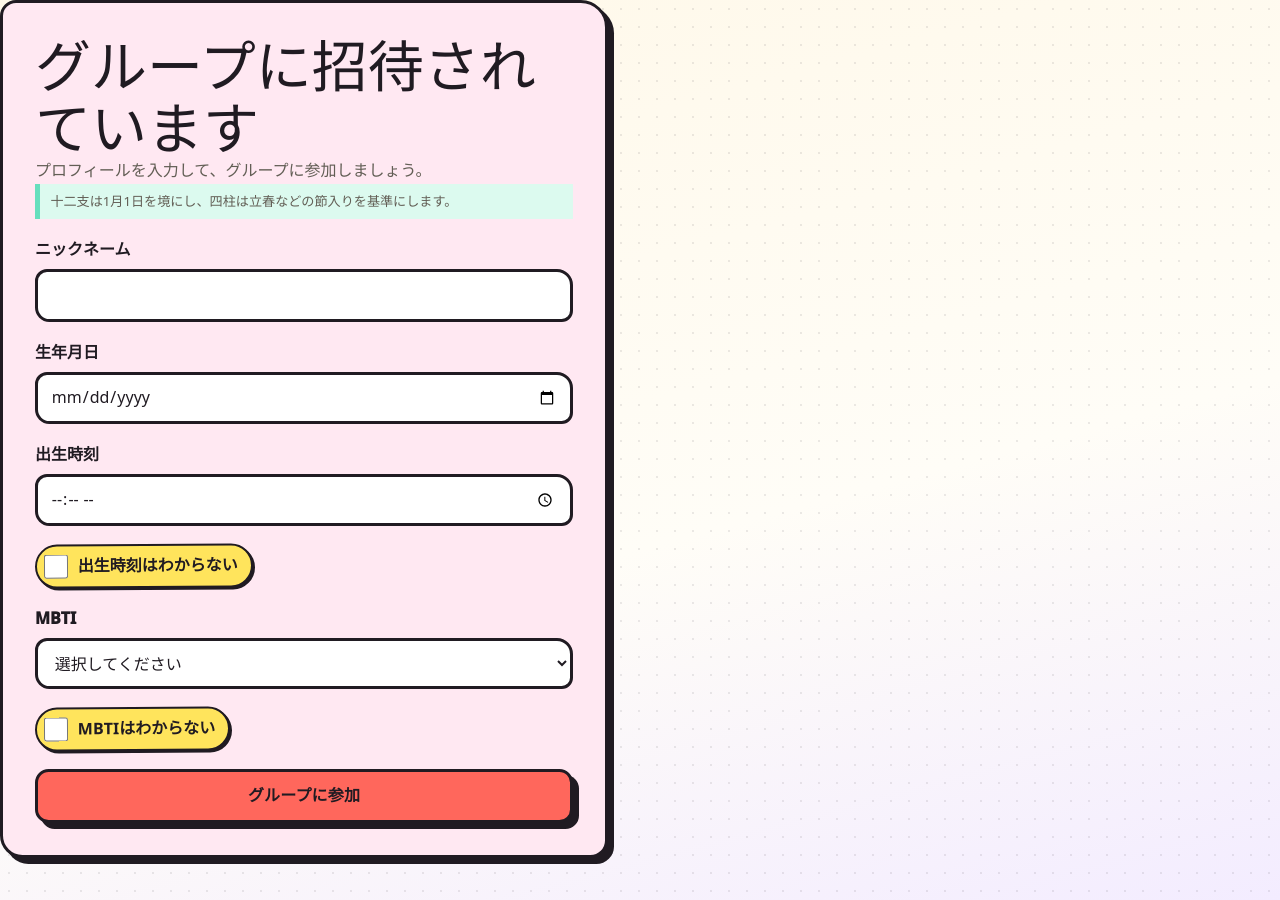
it: JoinGroupForm › never persists inputs or exposes causes after a provider failure
Type "  もふ  " into the field labelled "ニックネーム" at (304, 295), box [35,269,573,322]
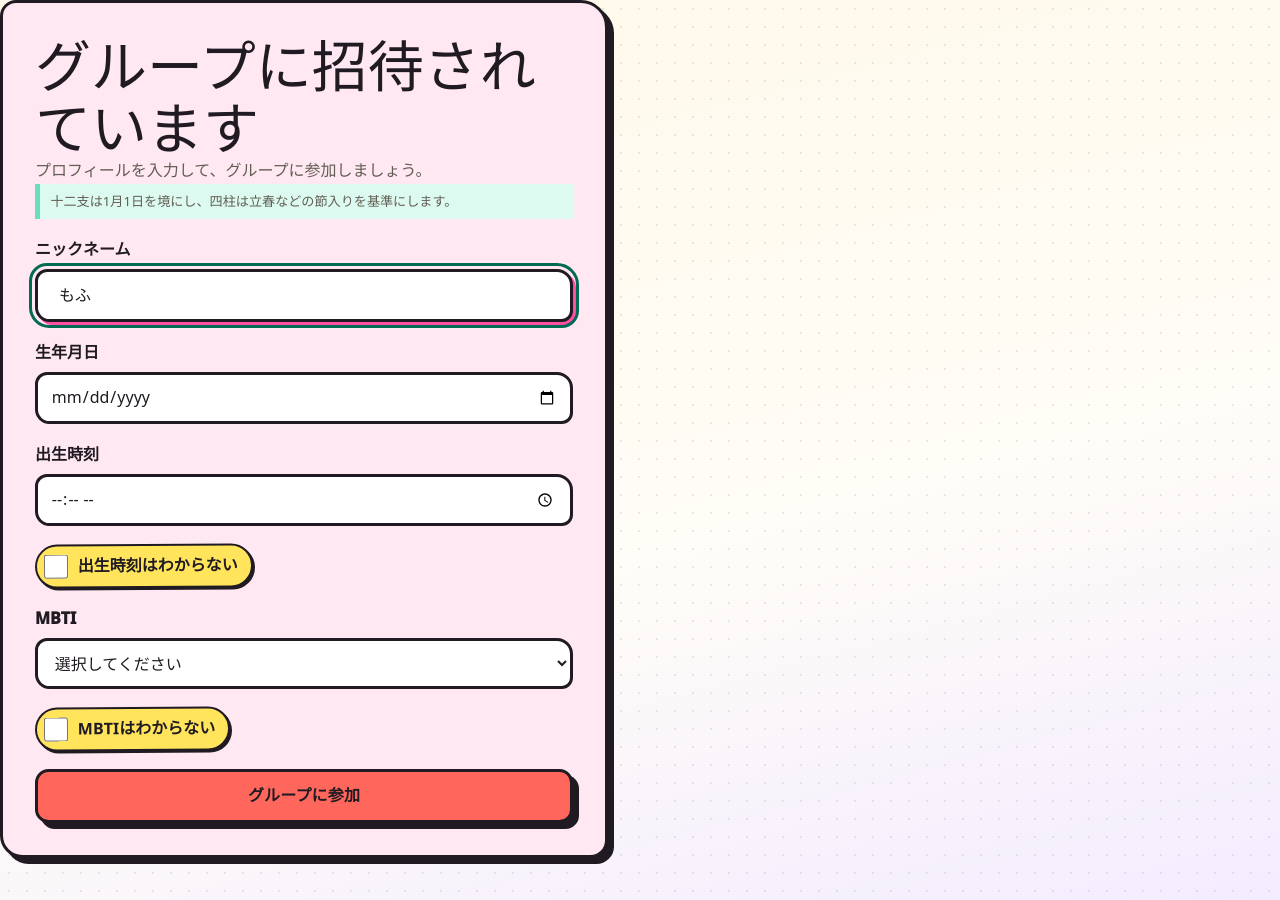
Type "2000-02-29" into the date field labelled "生年月日" at (304, 398), box [35,372,573,424]
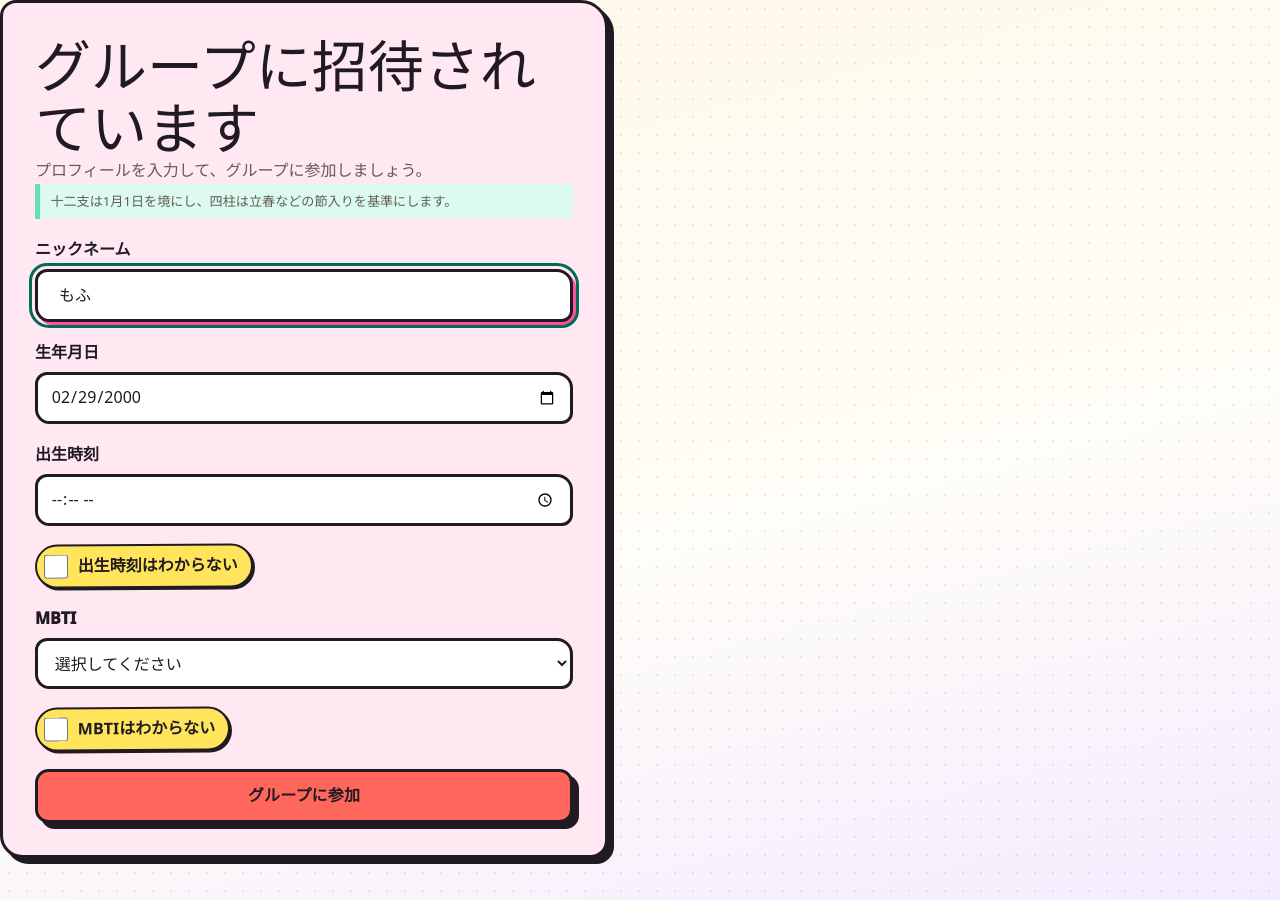
Type "09:05" into the time field labelled "出生時刻" at (304, 500), box [35,474,573,526]
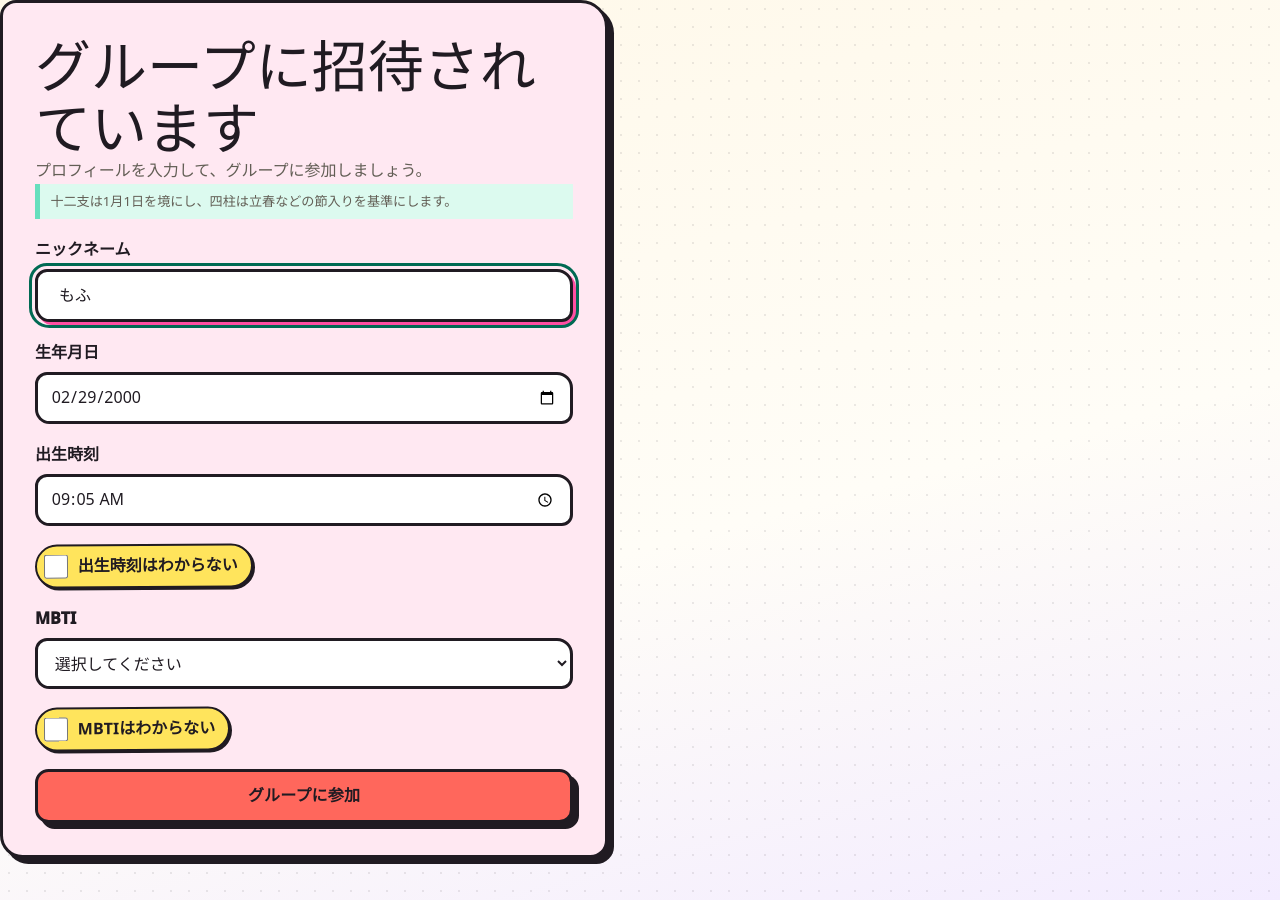
Click the checkbox labelled "出生時刻はわからない" at (56, 567), box [44,555,68,579]
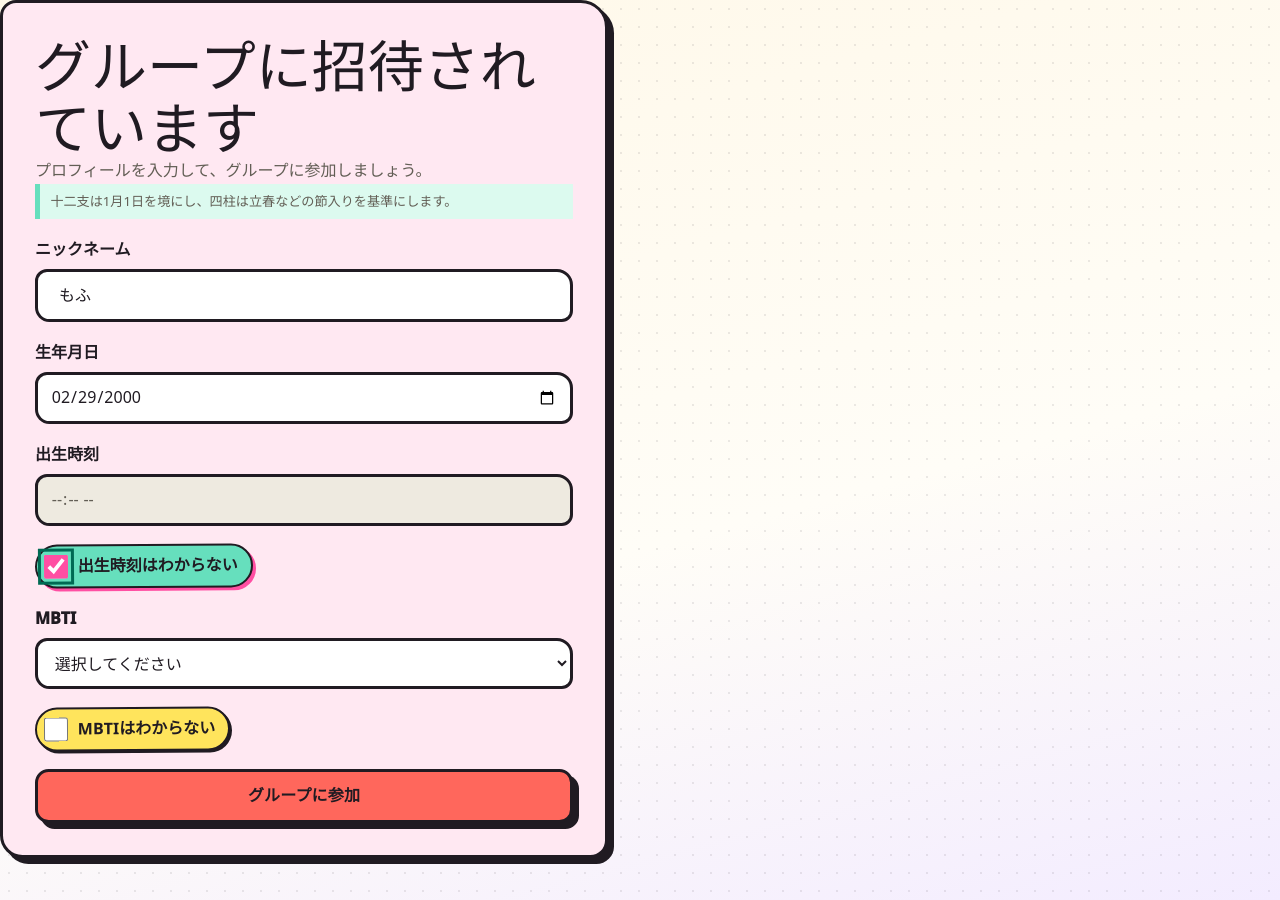
Click the checkbox labelled "MBTIはわからない" at (56, 730), box [44,717,68,742]
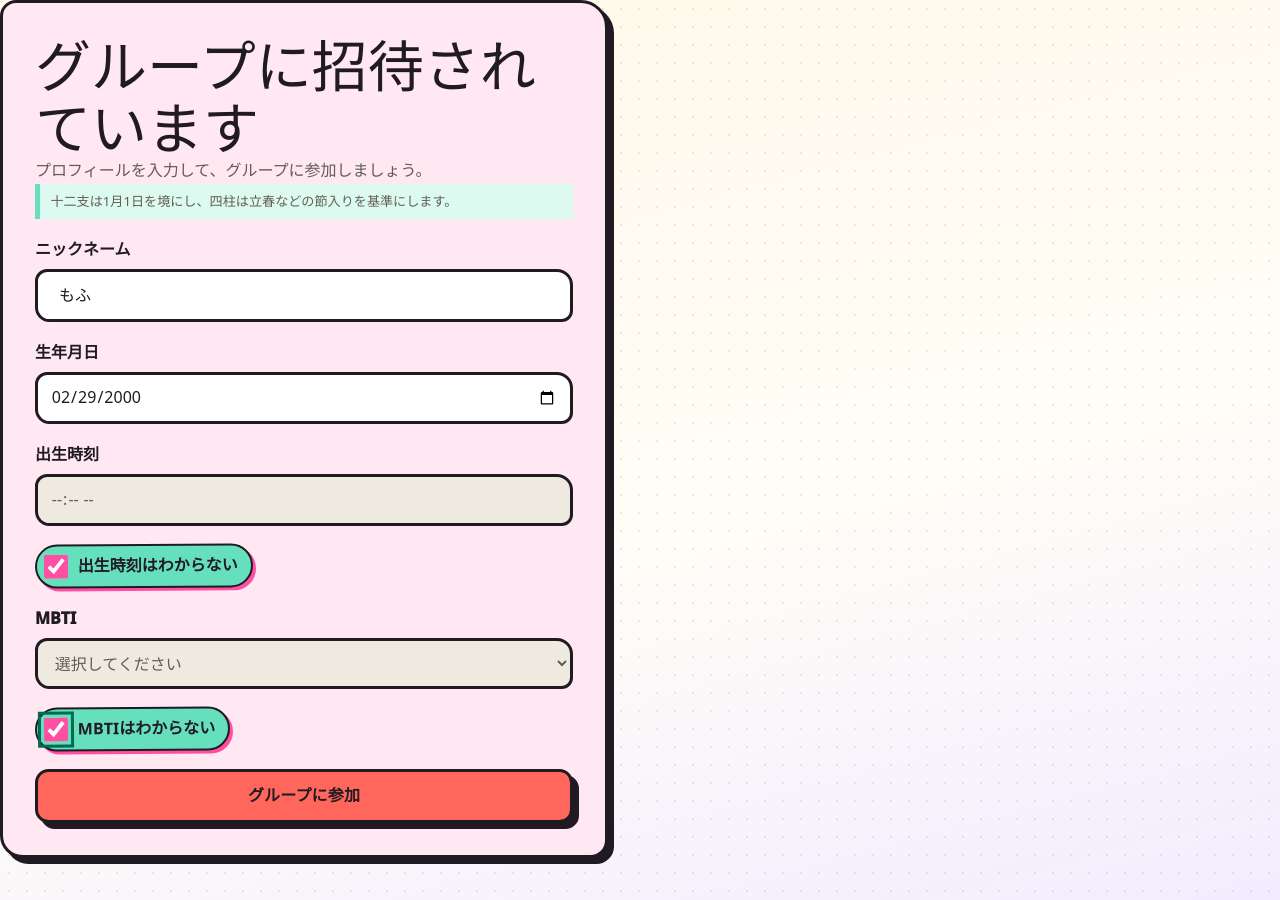
Click the button "グループに参加" at (304, 796), box [35,769,573,823]
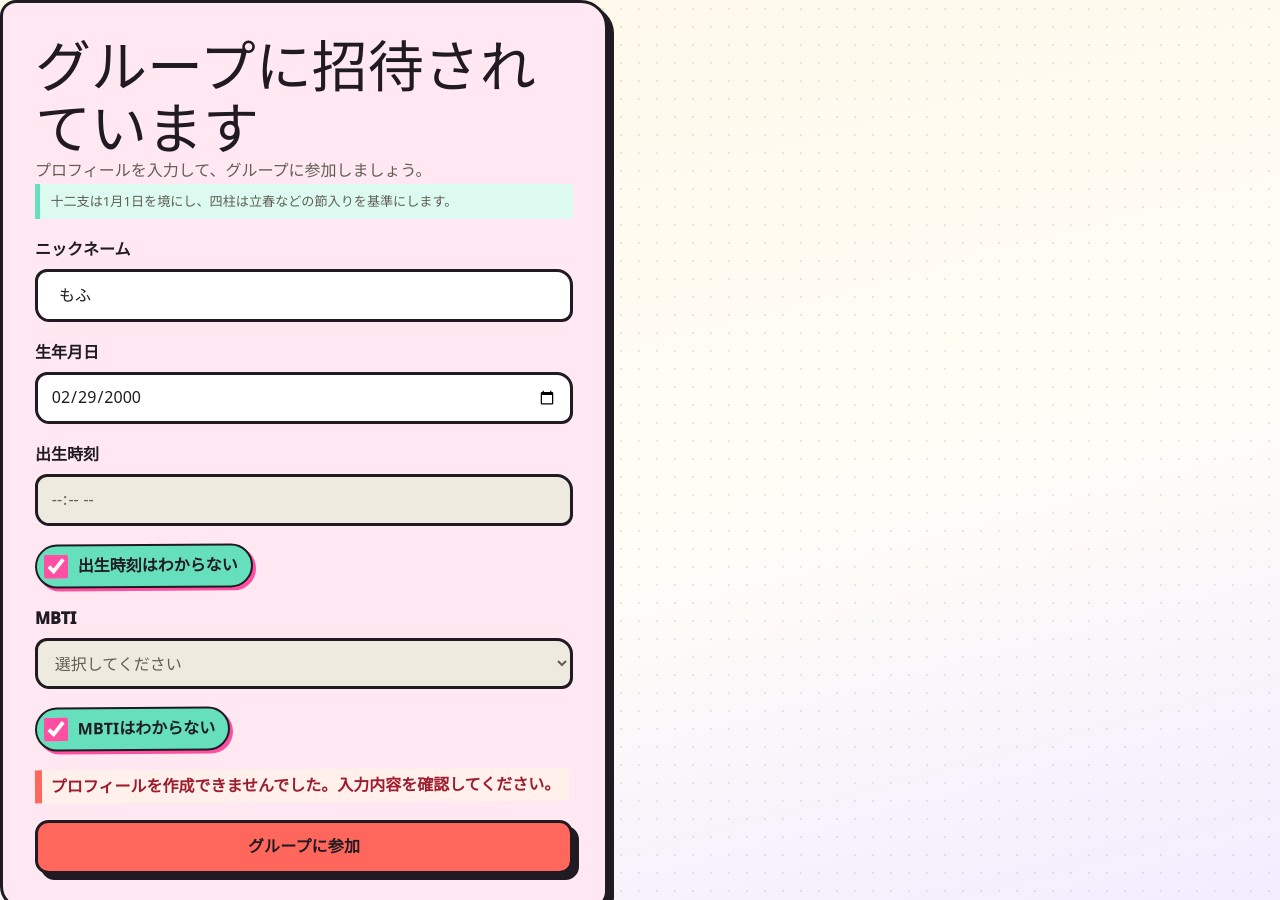
Expected: the message reads "プロフィールを作成できませんでした。入力内容を確認してください。", [51,772,560,797]
